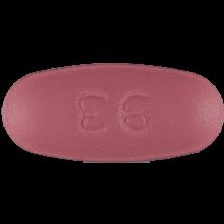33261-043: (0, 0, 224, 224)
